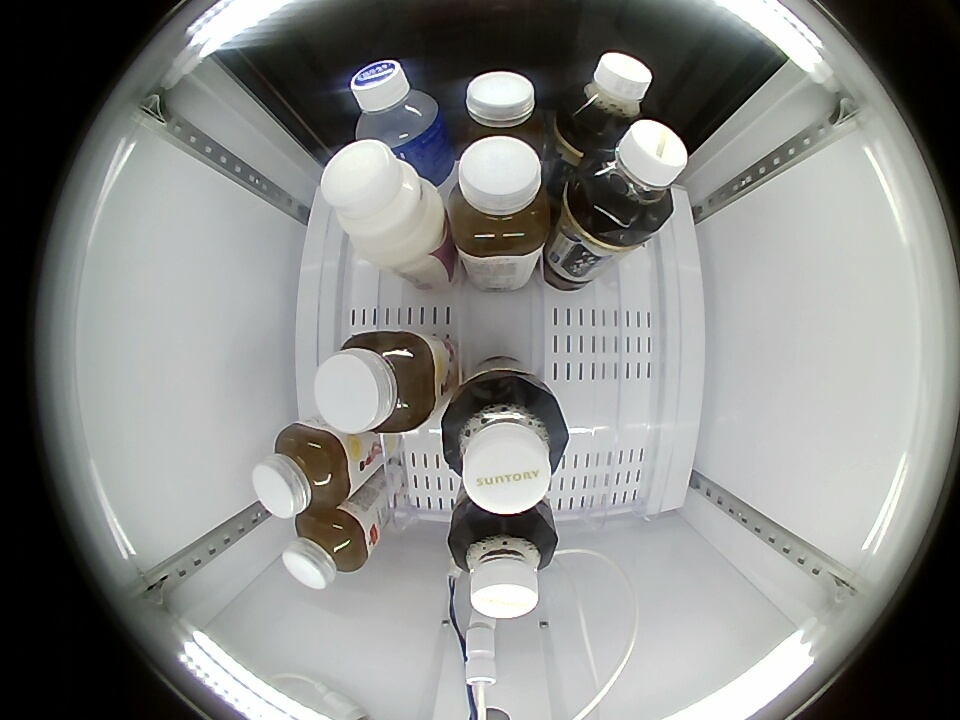baokuangli: (351, 60, 445, 158)
chapai: (315, 330, 443, 435), (451, 136, 551, 262), (253, 423, 351, 519), (461, 70, 548, 156), (284, 509, 371, 589)
wulongcha: (439, 380, 571, 515), (577, 120, 688, 233), (447, 514, 559, 622), (561, 51, 653, 144)
yingyangkuaixian: (321, 140, 444, 262)
